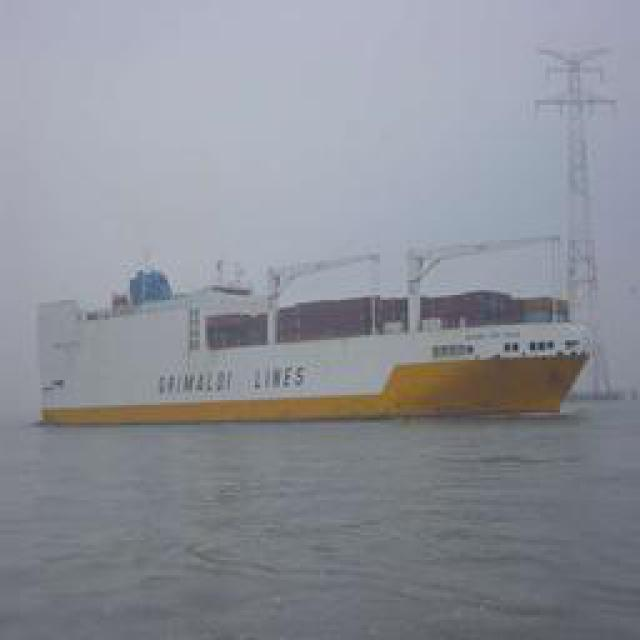Ship: (40, 255, 600, 428)
